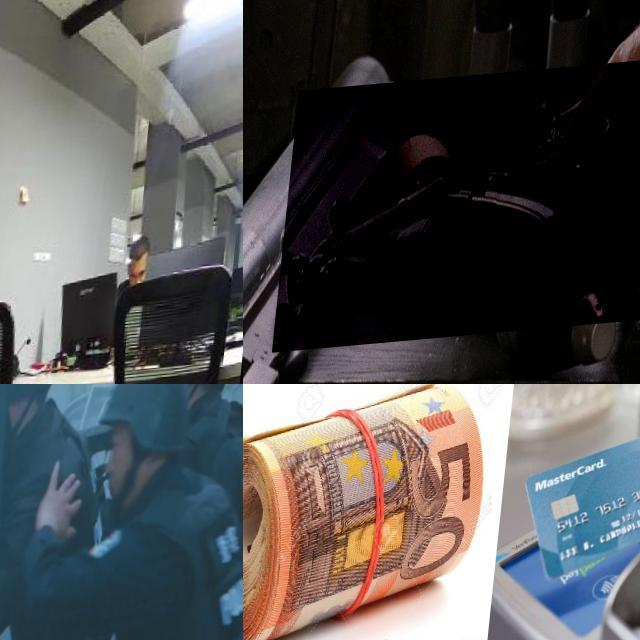gun-knife-thesis - v11 Yolov5 augmented: (281, 64, 640, 356), (0, 460, 31, 518)
